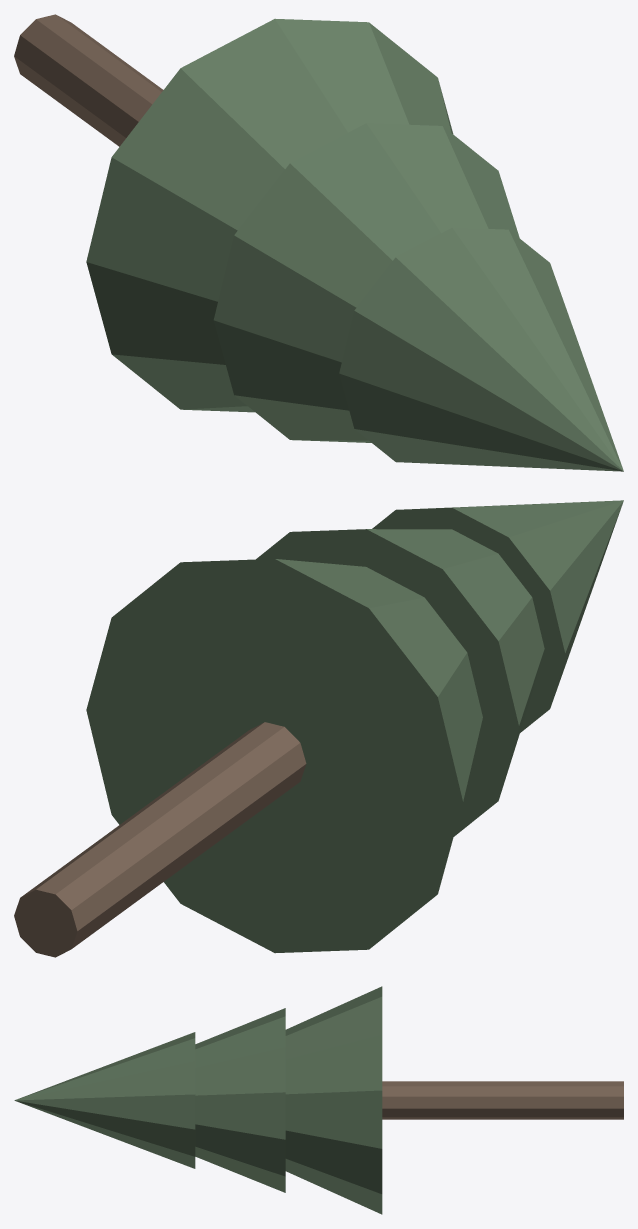
File: SM_PineTree.glb
The picture shows the model from 3 angles, top to bottom: view 1: azimuth 30°, elevation 25°; view 2: azimuth 150°, elevation 25°; view 3: azimuth 270°, elevation 25°; orthographic projection. The views are drawn at different scales.
Parts seen in each view (by area): view 1: SM_PineTree_part01, SM_PineTree_part03, SM_PineTree_part02, SM_PineTree_part00; view 2: SM_PineTree_part01, SM_PineTree_part02, SM_PineTree_part00, SM_PineTree_part03; view 3: SM_PineTree_part01, SM_PineTree_part02, SM_PineTree_part03, SM_PineTree_part00.
Boxes of the visible parts, x1=… form: SM_PineTree_part01: x1=86, y1=18, x2=453, y2=412; SM_PineTree_part03: x1=339, y1=227, x2=623, y2=471; SM_PineTree_part02: x1=213, y1=123, x2=519, y2=442; SM_PineTree_part00: x1=14, y1=14, x2=163, y2=146; SM_PineTree_part01: x1=86, y1=559, x2=482, y2=953; SM_PineTree_part02: x1=256, y1=529, x2=544, y2=836; SM_PineTree_part00: x1=14, y1=722, x2=306, y2=957; SM_PineTree_part03: x1=372, y1=500, x2=623, y2=732; SM_PineTree_part01: x1=285, y1=986, x2=382, y2=1214; SM_PineTree_part02: x1=195, y1=1008, x2=285, y2=1192; SM_PineTree_part03: x1=14, y1=1032, x2=195, y2=1168; SM_PineTree_part00: x1=382, y1=1081, x2=623, y2=1119.
Bounding box in the file's own units: 1.9 × 1.9 × 5.05.
